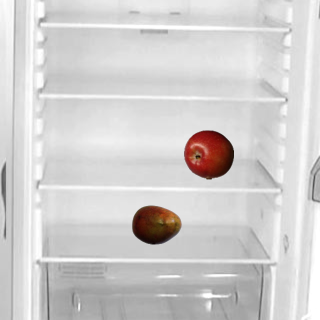Apple Braeburn: (183, 129, 233, 179)
Mango Red: (131, 199, 181, 249)
